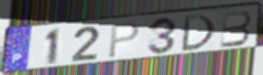1: (43, 27, 65, 68)
2: (70, 25, 103, 64)
3: (147, 16, 178, 56)
B: (218, 9, 253, 49)
D: (180, 13, 218, 52)
P: (107, 21, 142, 60)
